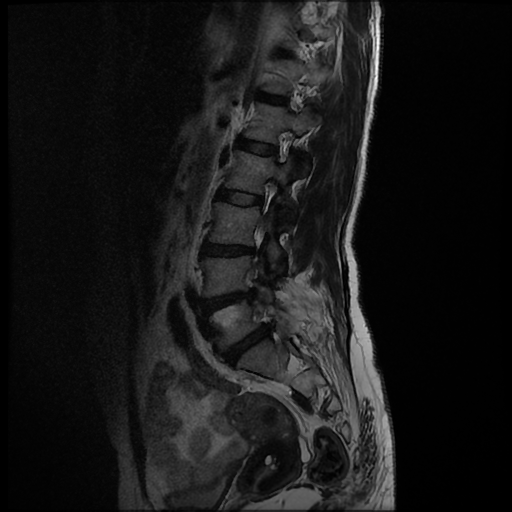LFS0: (264, 123, 300, 170)
